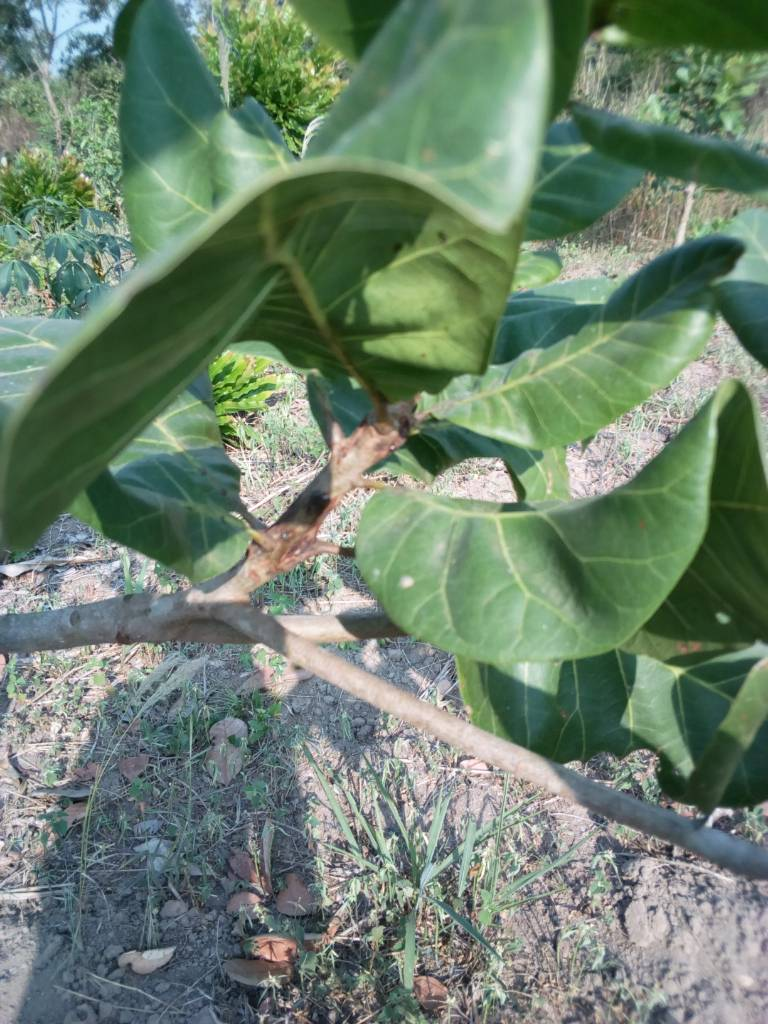Helopeltis anacardii: (371, 389, 768, 647), (458, 230, 743, 421)
